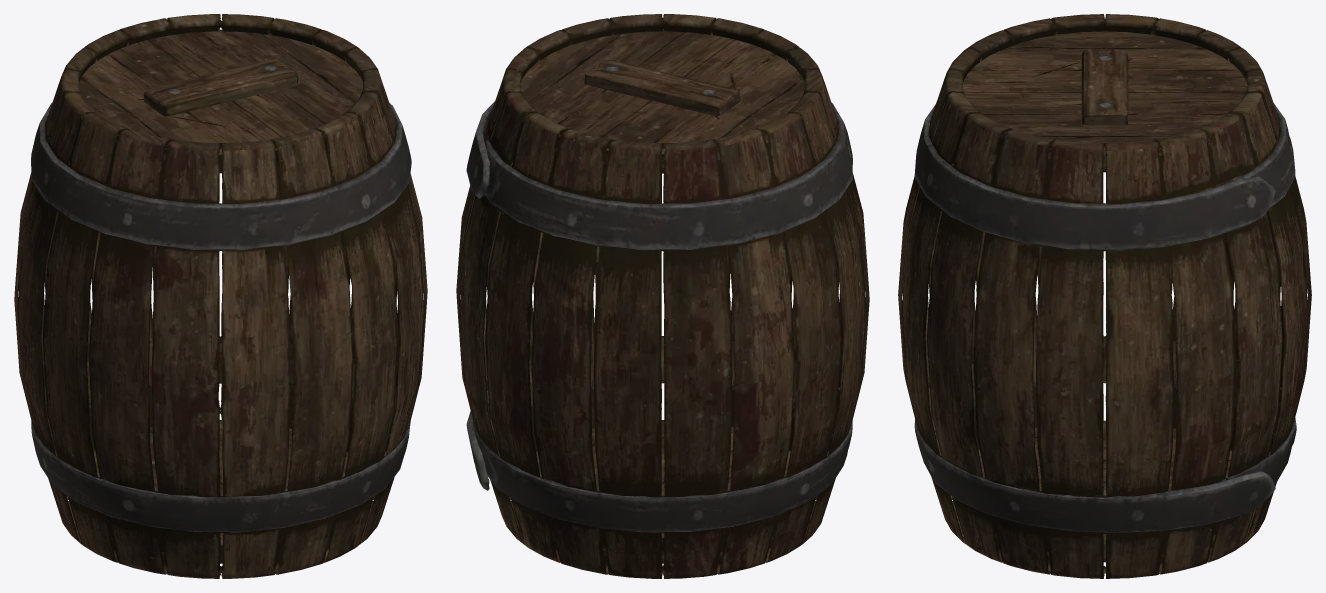
3 views of the same model, side by side, from view 1: azimuth 30°, elevation 25°; view 2: azimuth 150°, elevation 25°; view 3: azimuth 270°, elevation 25° (orthographic).
Parts seen in each view (by area): view 1: SM_Garou_Barrel_02_LOD0; view 2: SM_Garou_Barrel_02_LOD0; view 3: SM_Garou_Barrel_02_LOD0.
Part boxes in pixels (x1,y1,x2,y2): SM_Garou_Barrel_02_LOD0: (14, 14, 427, 578); SM_Garou_Barrel_02_LOD0: (456, 14, 869, 578); SM_Garou_Barrel_02_LOD0: (898, 14, 1311, 578).
Bounding box in the file's own units: 1.25 × 1.44 × 1.25.
